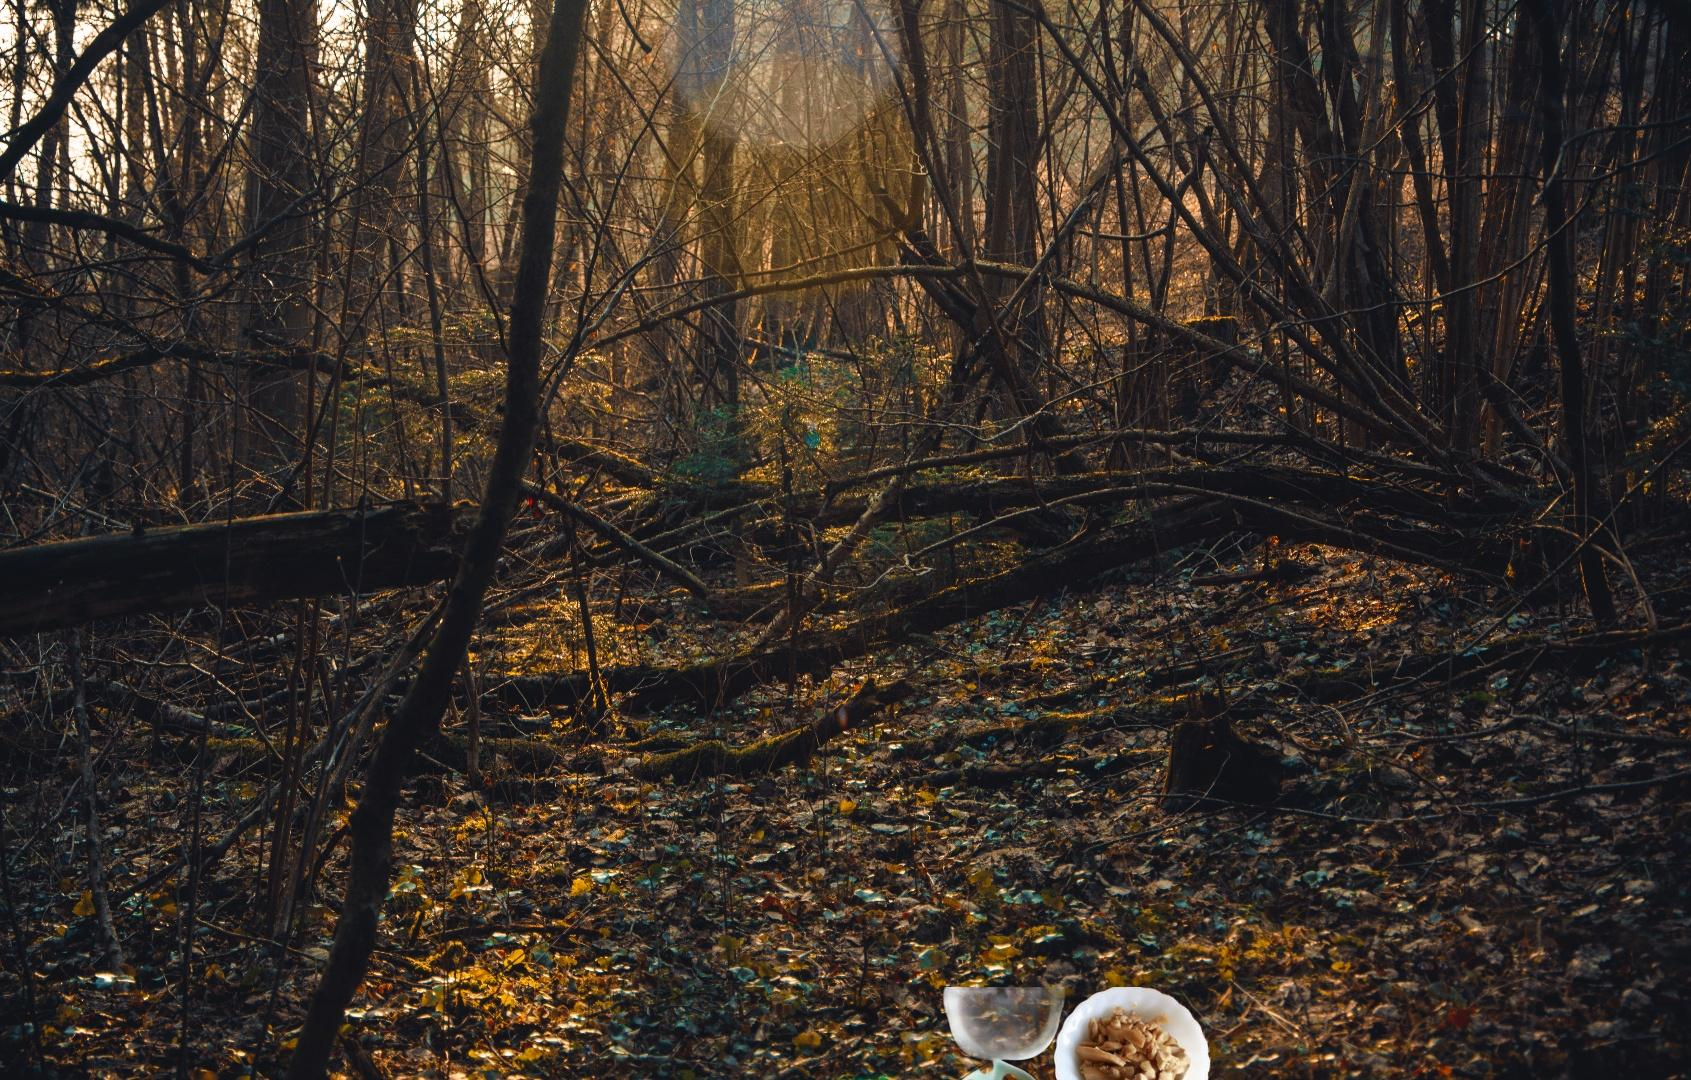biological: (790, 988, 1228, 1080)
trashbox-cardboard: (470, 200, 1082, 608)
